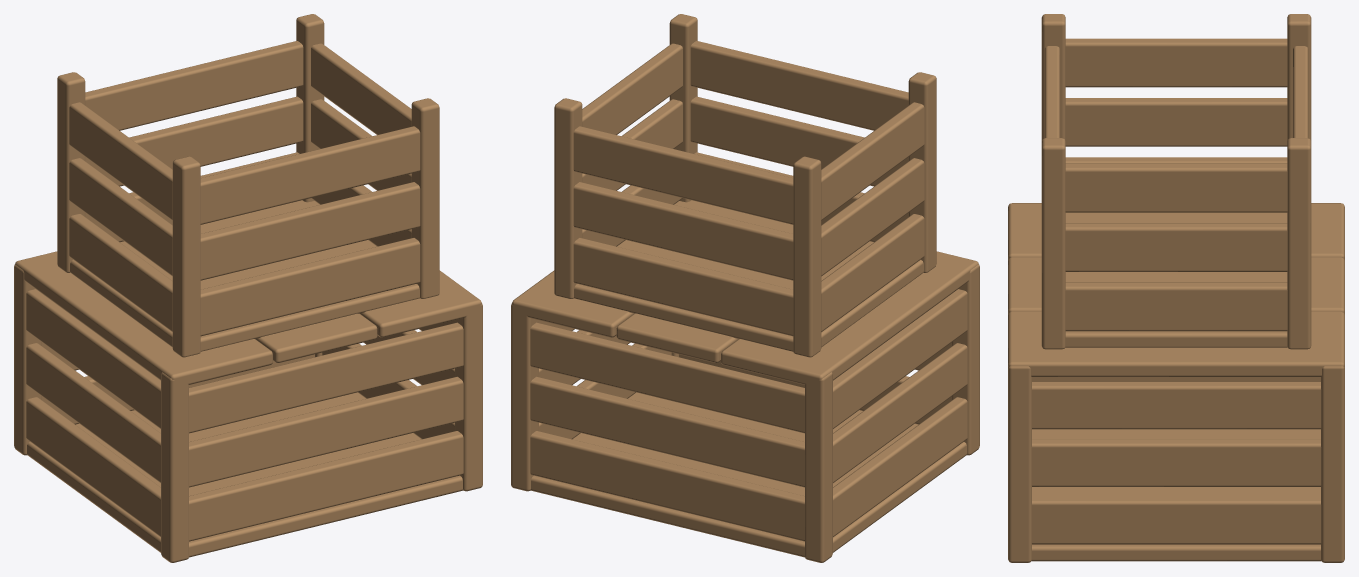
The model's file is crates.glb.
3 views of the same model, side by side, from view 1: azimuth 30°, elevation 25°; view 2: azimuth 150°, elevation 25°; view 3: azimuth 270°, elevation 25° (orthographic). The views are drawn at different scales.
Visible parts, largest first — view 1: lower-crate-long-slat-2-1, lower-crate-long-slat-1-1, lower-crate-long-slat-0-1, lower-crate-floor, upper-crate-long-slat-1-1, upper-crate-long-slat-2-1, upper-crate-long-slat-0-1, upper-crate-long-slat-2--1, lower-crate-lid-plank-0, upper-crate-floor, upper-crate-long-slat-1--1, lower-crate-end-slat-0--1 (+20 smaller); view 2: lower-crate-long-slat-2--1, lower-crate-long-slat-1--1, lower-crate-long-slat-0--1, lower-crate-floor, upper-crate-long-slat-1--1, upper-crate-long-slat-2--1, upper-crate-long-slat-0--1, upper-crate-long-slat-2-1, lower-crate-lid-plank-0, upper-crate-floor, upper-crate-long-slat-1-1, lower-crate-end-slat-0--1 (+20 smaller); view 3: lower-crate-end-slat-1-1, lower-crate-end-slat-2-1, lower-crate-end-slat-0-1, lower-crate-lid-plank-2, lower-crate-floor, upper-crate-end-slat-0-1, upper-crate-end-slat-2-1, upper-crate-end-slat-2--1, upper-crate-end-slat-1--1, upper-crate-end-slat-1-1, upper-crate-floor, upper-crate-batten-1--1 (+11 smaller).
Boxes of the visible parts, x1,y1,x2,y2 form: lower-crate-long-slat-2-1: [189, 322, 463, 433]; lower-crate-long-slat-1-1: [189, 376, 463, 487]; lower-crate-long-slat-0-1: [189, 431, 463, 541]; lower-crate-floor: [27, 392, 463, 557]; upper-crate-long-slat-1-1: [200, 182, 420, 280]; upper-crate-long-slat-2-1: [200, 126, 420, 224]; upper-crate-long-slat-0-1: [200, 238, 420, 336]; upper-crate-long-slat-2--1: [85, 41, 303, 130]; lower-crate-lid-plank-0: [15, 251, 272, 384]; upper-crate-floor: [70, 200, 419, 351]; upper-crate-long-slat-1--1: [85, 96, 303, 186]; lower-crate-end-slat-0--1: [26, 397, 160, 536]; lower-crate-long-slat-2--1: [530, 322, 804, 433]; lower-crate-long-slat-1--1: [530, 376, 804, 487]; lower-crate-long-slat-0--1: [530, 431, 804, 541]; lower-crate-floor: [530, 392, 966, 557]; upper-crate-long-slat-1--1: [573, 182, 793, 280]; upper-crate-long-slat-2--1: [573, 126, 793, 224]; upper-crate-long-slat-0--1: [573, 238, 793, 336]; upper-crate-long-slat-2-1: [690, 41, 908, 130]; lower-crate-lid-plank-0: [721, 251, 978, 384]; upper-crate-floor: [574, 200, 923, 351]; upper-crate-long-slat-1-1: [690, 96, 908, 186]; lower-crate-end-slat-0--1: [833, 397, 967, 536]; lower-crate-end-slat-1-1: [1031, 439, 1321, 486]; lower-crate-end-slat-2-1: [1031, 382, 1321, 429]; lower-crate-end-slat-0-1: [1031, 497, 1321, 544]; lower-crate-lid-plank-2: [1008, 311, 1344, 376]; lower-crate-floor: [1031, 429, 1321, 561]; upper-crate-end-slat-0-1: [1065, 282, 1287, 331]; upper-crate-end-slat-2-1: [1065, 163, 1287, 212]; upper-crate-end-slat-2--1: [1065, 38, 1287, 87]; upper-crate-end-slat-1--1: [1065, 98, 1287, 146]; upper-crate-end-slat-1-1: [1065, 223, 1287, 271]; upper-crate-floor: [1065, 212, 1287, 347]; upper-crate-batten-1--1: [1287, 138, 1311, 349].
Size of the model in its own units: 0.8 by 0.9251 by 0.7.
